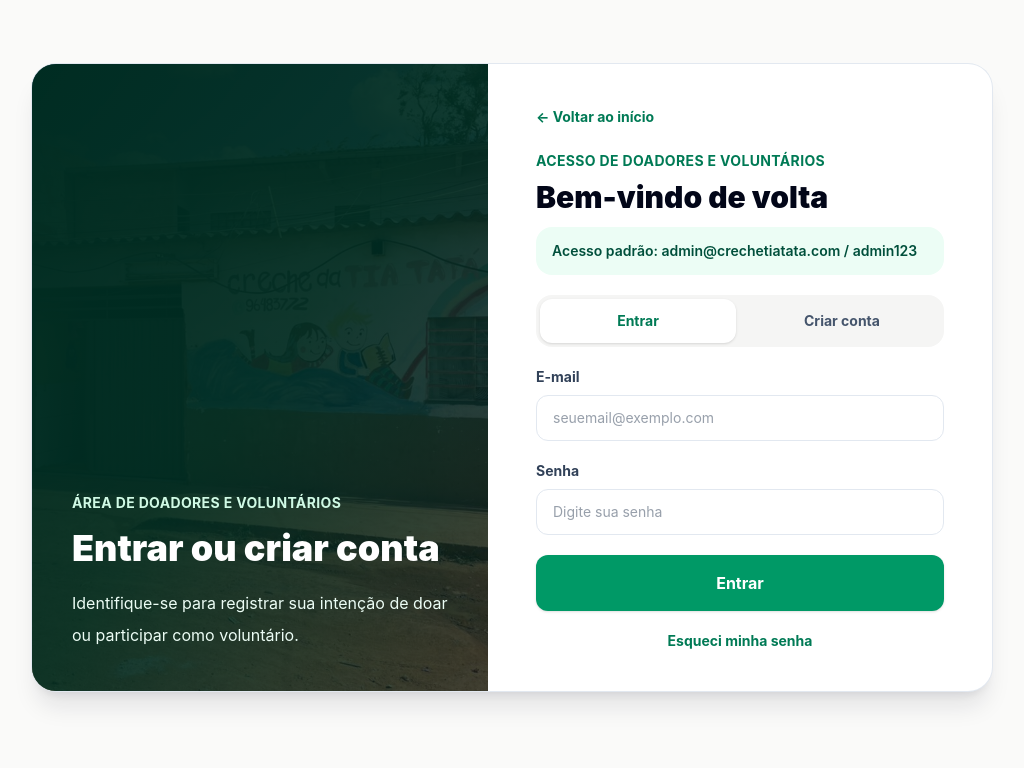
it: LoginPage › exibe erro para usuário inexistente
This screenshot has width=1024, height=768.
Type "naoexiste@email.com" into the field labelled "E-mail".
click(740, 418); type("naoexiste@email.com")  # box [536,395,944,441]
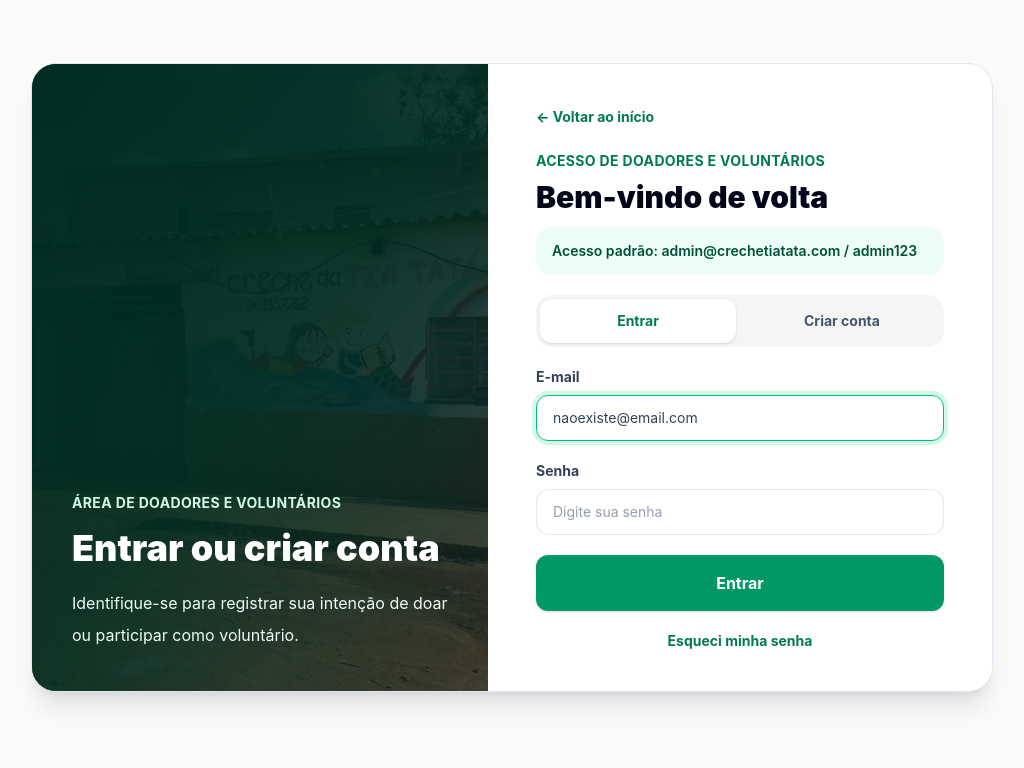
Type "senha123" into the password field labelled "Senha".
click(740, 512); type("senha123")  # box [536,489,944,535]
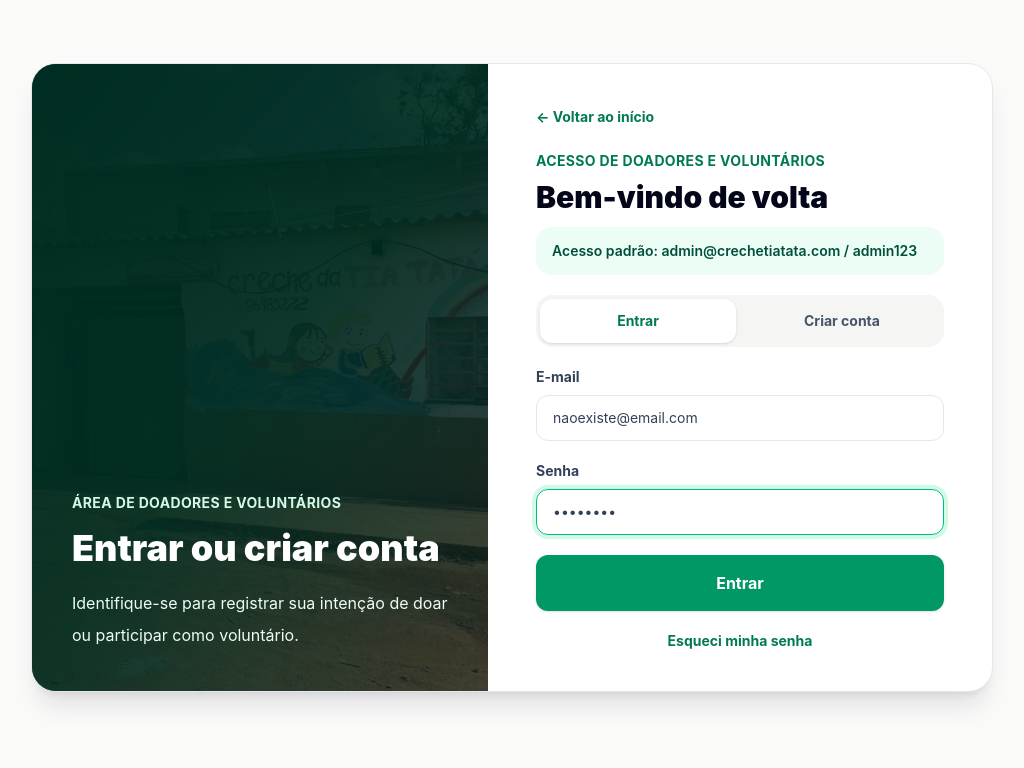
Click the 2nd button "Entrar".
click(740, 583)  # box [536,555,944,611]
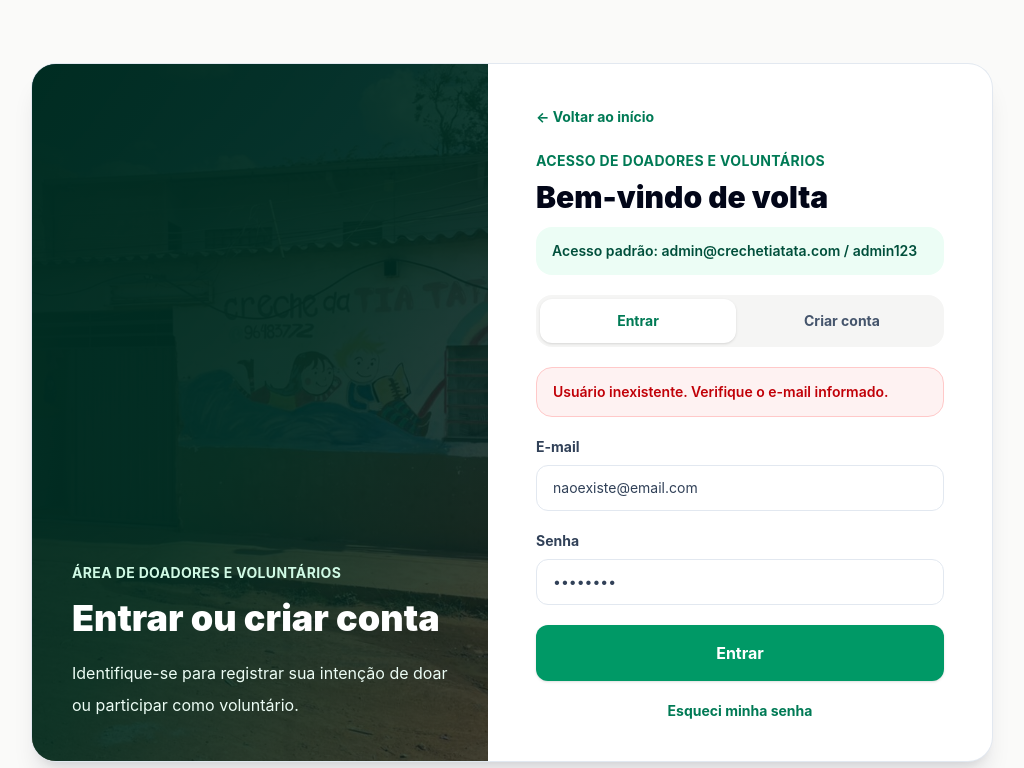
Check: the message shows "Usuário inexistente", box [553,383,888,400]
